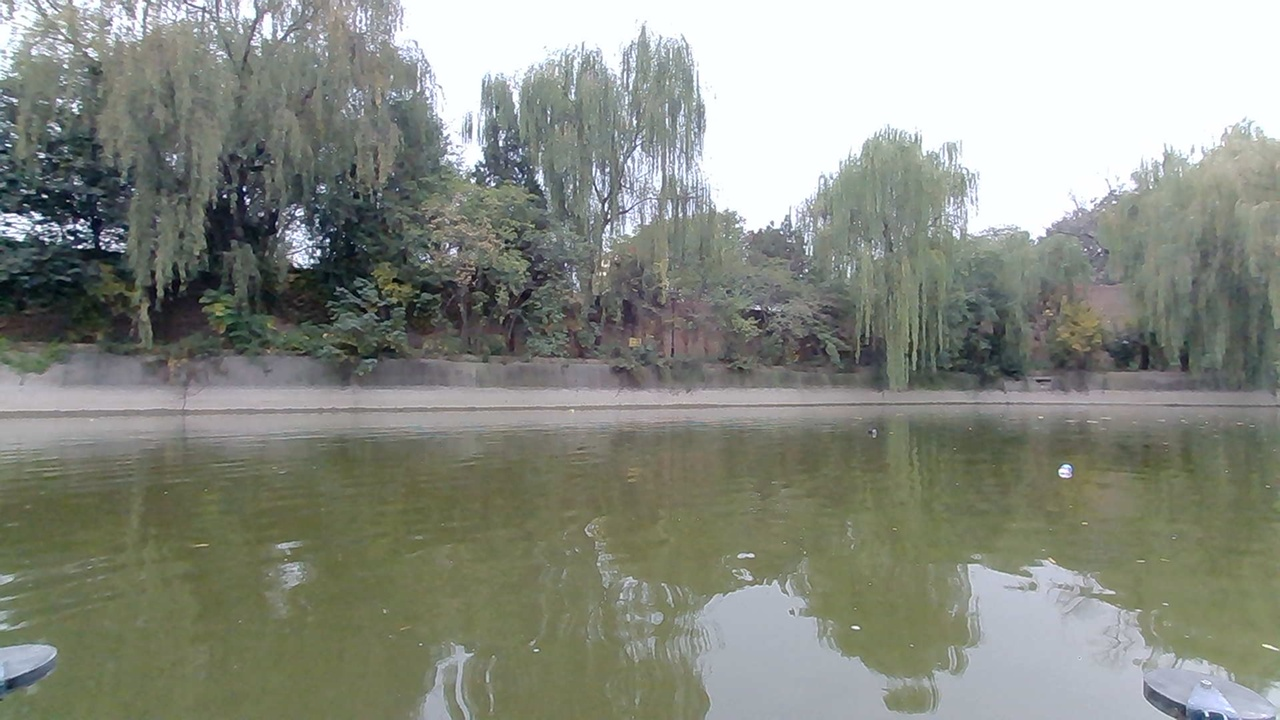bottle: (1049, 456, 1088, 485), (858, 418, 886, 444)
